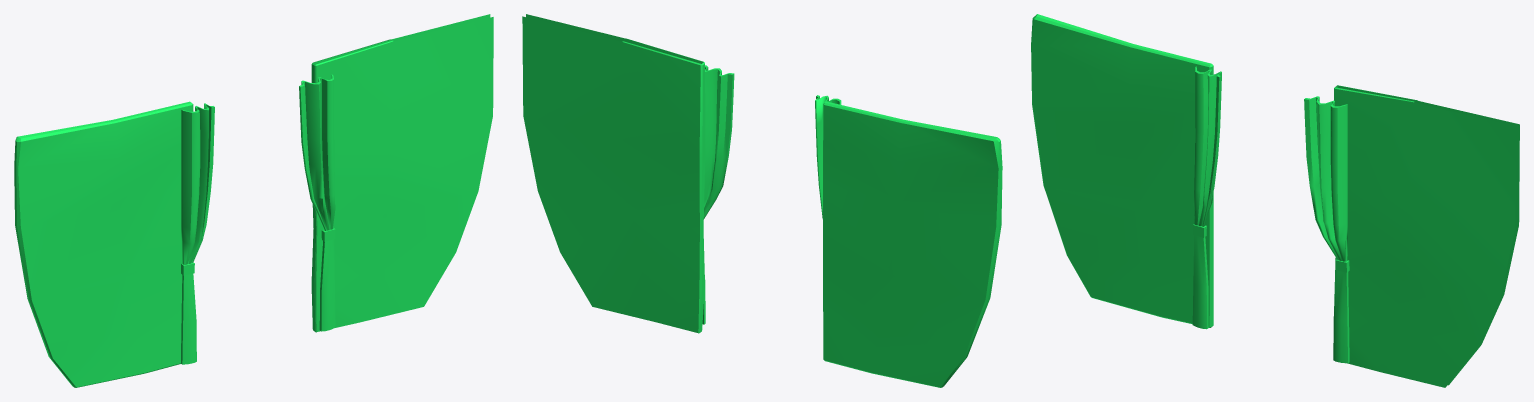
The model's file is mc_side_right_int_wall_new_lod01.FBX.
3 renders of one model, left to right at view 1: azimuth 30°, elevation 25°; view 2: azimuth 150°, elevation 25°; view 3: azimuth 330°, elevation 25°, orthographic.
Parts seen in each view (by area): view 1: mc_side_right_int_wall; view 2: mc_side_right_int_wall; view 3: mc_side_right_int_wall.
Part boxes in pixels (bbox=[...]): mc_side_right_int_wall: bbox=[14, 14, 493, 387]; mc_side_right_int_wall: bbox=[522, 14, 1002, 387]; mc_side_right_int_wall: bbox=[1031, 14, 1519, 387].
Bounding box in the file's own units: 47.82 × 26.26 × 2.45.
